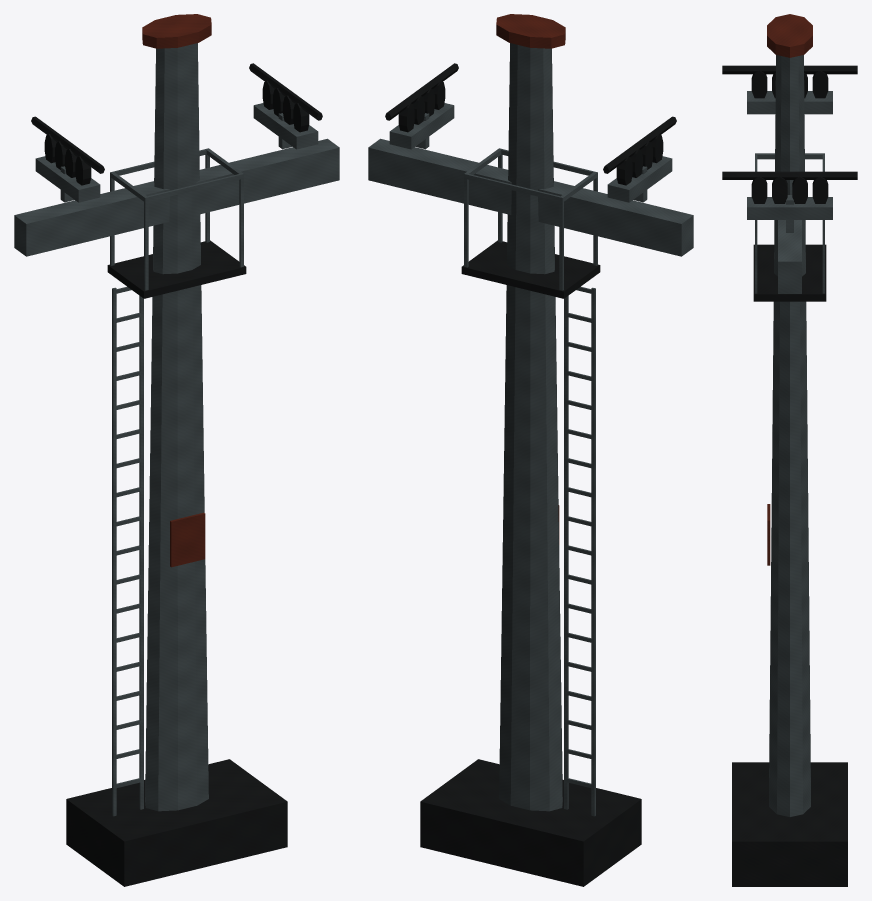
File: chairlift-tower.glb
The picture shows the model from 3 angles, left to right: view 1: azimuth 30°, elevation 25°; view 2: azimuth 150°, elevation 25°; view 3: azimuth 270°, elevation 25°; orthographic projection.
Visible parts, largest first — view 1: chairlift-tower-chairlift-tower_1, chairlift-tower-chairlift-tower_0, chairlift-tower-chairlift-tower_2, chairlift-tower-chairlift-tower_3; view 2: chairlift-tower-chairlift-tower_1, chairlift-tower-chairlift-tower_0, chairlift-tower-chairlift-tower_2; view 3: chairlift-tower-chairlift-tower_1, chairlift-tower-chairlift-tower_0, chairlift-tower-chairlift-tower_2.
Boxes of the visible parts, x1,y1,x2,y2 form: chairlift-tower-chairlift-tower_1: (14,43,339,816); chairlift-tower-chairlift-tower_0: (31,63,322,886); chairlift-tower-chairlift-tower_2: (142,14,211,48); chairlift-tower-chairlift-tower_3: (170,512,205,567); chairlift-tower-chairlift-tower_1: (368,43,693,816); chairlift-tower-chairlift-tower_0: (385,63,676,886); chairlift-tower-chairlift-tower_2: (496,14,565,48); chairlift-tower-chairlift-tower_1: (747,55,832,816); chairlift-tower-chairlift-tower_0: (722,65,857,886); chairlift-tower-chairlift-tower_2: (767,14,812,57).
Bounding box in the file's own units: 4 × 10 × 1.5.
Materials: 3 (3 with a texture image).
